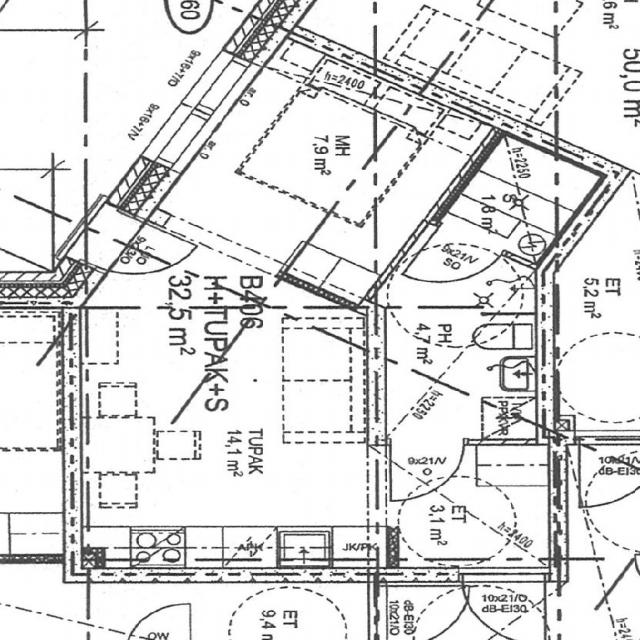door: (67, 204, 209, 299), (403, 222, 504, 302), (463, 568, 545, 640), (391, 439, 464, 500)
